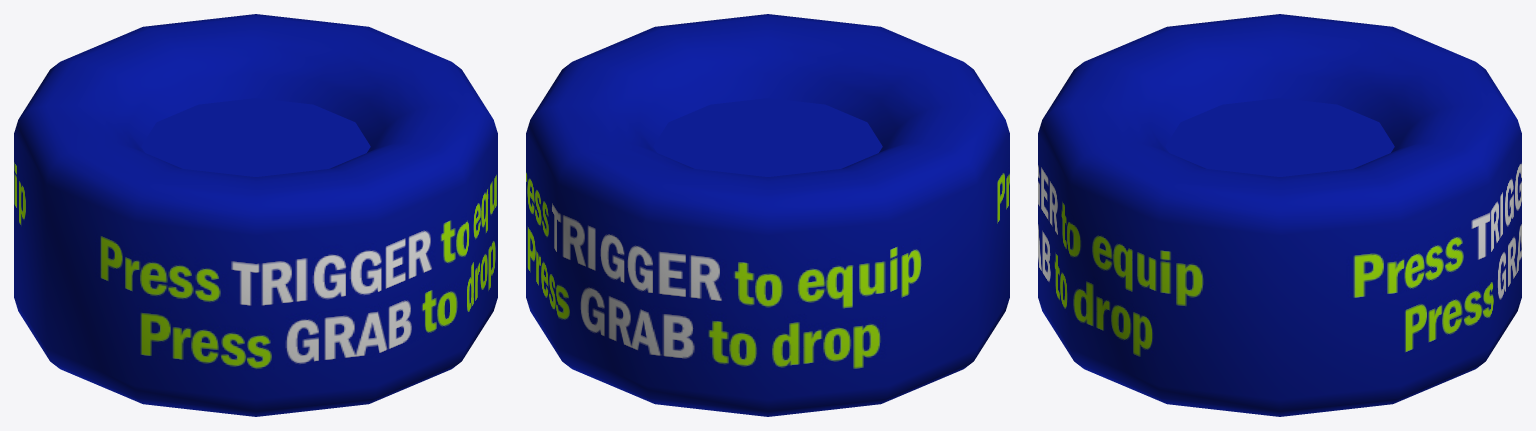
Rendered from grabInstructions.glb.
3 views of the same model, side by side, from view 1: azimuth 30°, elevation 25°; view 2: azimuth 150°, elevation 25°; view 3: azimuth 270°, elevation 25° (orthographic).
Visible parts, largest first — view 1: Cylinder; view 2: Cylinder; view 3: Cylinder.
Part boxes in pixels (x1=…): Cylinder: x1=14, y1=14, x2=497, y2=416; Cylinder: x1=526, y1=14, x2=1009, y2=416; Cylinder: x1=1038, y1=14, x2=1521, y2=416.
Bounding box in the file's own units: 0.1337 × 0.0669 × 0.1337.
1 material, 1 textured.
